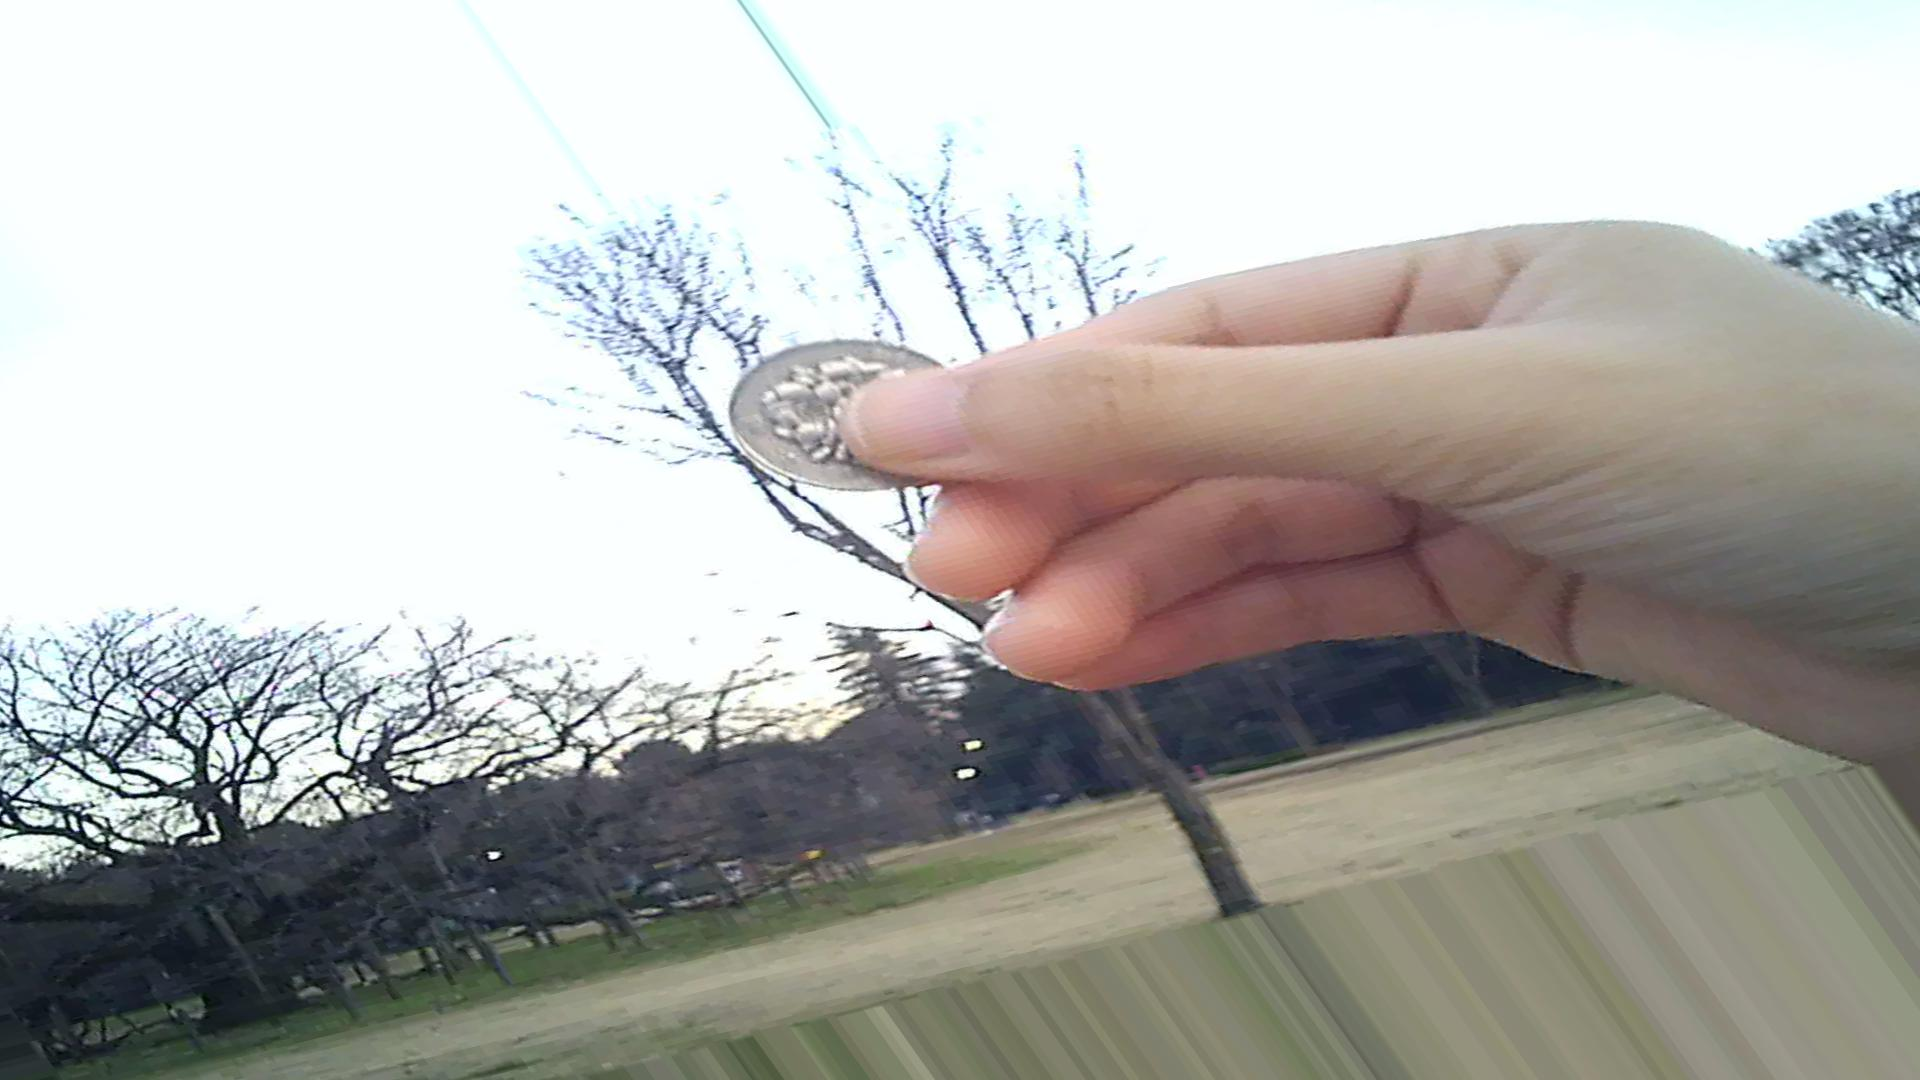100 Yen: (713, 343, 975, 506)
